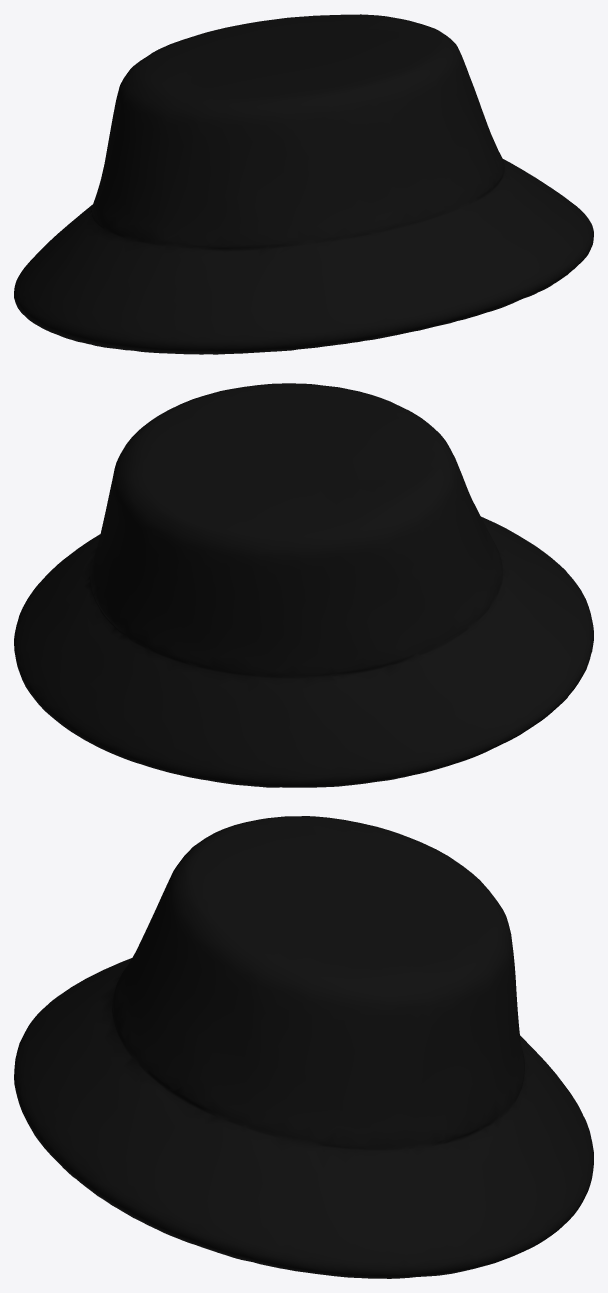
File: Fuzzy-Bucket-Stealth.glb
3 renders of one model, top to bottom at view 1: azimuth 30°, elevation 25°; view 2: azimuth 150°, elevation 25°; view 3: azimuth 270°, elevation 25°, orthographic. The views are drawn at different scales.
Visible parts, largest first — view 1: Fuzzy-Bucket-Stealth; view 2: Fuzzy-Bucket-Stealth; view 3: Fuzzy-Bucket-Stealth.
Boxes of the visible parts, x1,y1,x2,y2 form: Fuzzy-Bucket-Stealth: (14, 14, 593, 354); Fuzzy-Bucket-Stealth: (14, 383, 593, 787); Fuzzy-Bucket-Stealth: (14, 816, 593, 1278).
Size of the model in its own units: 0.7047 by 0.336 by 0.5977.
Materials: 1 (1 with a texture image).
